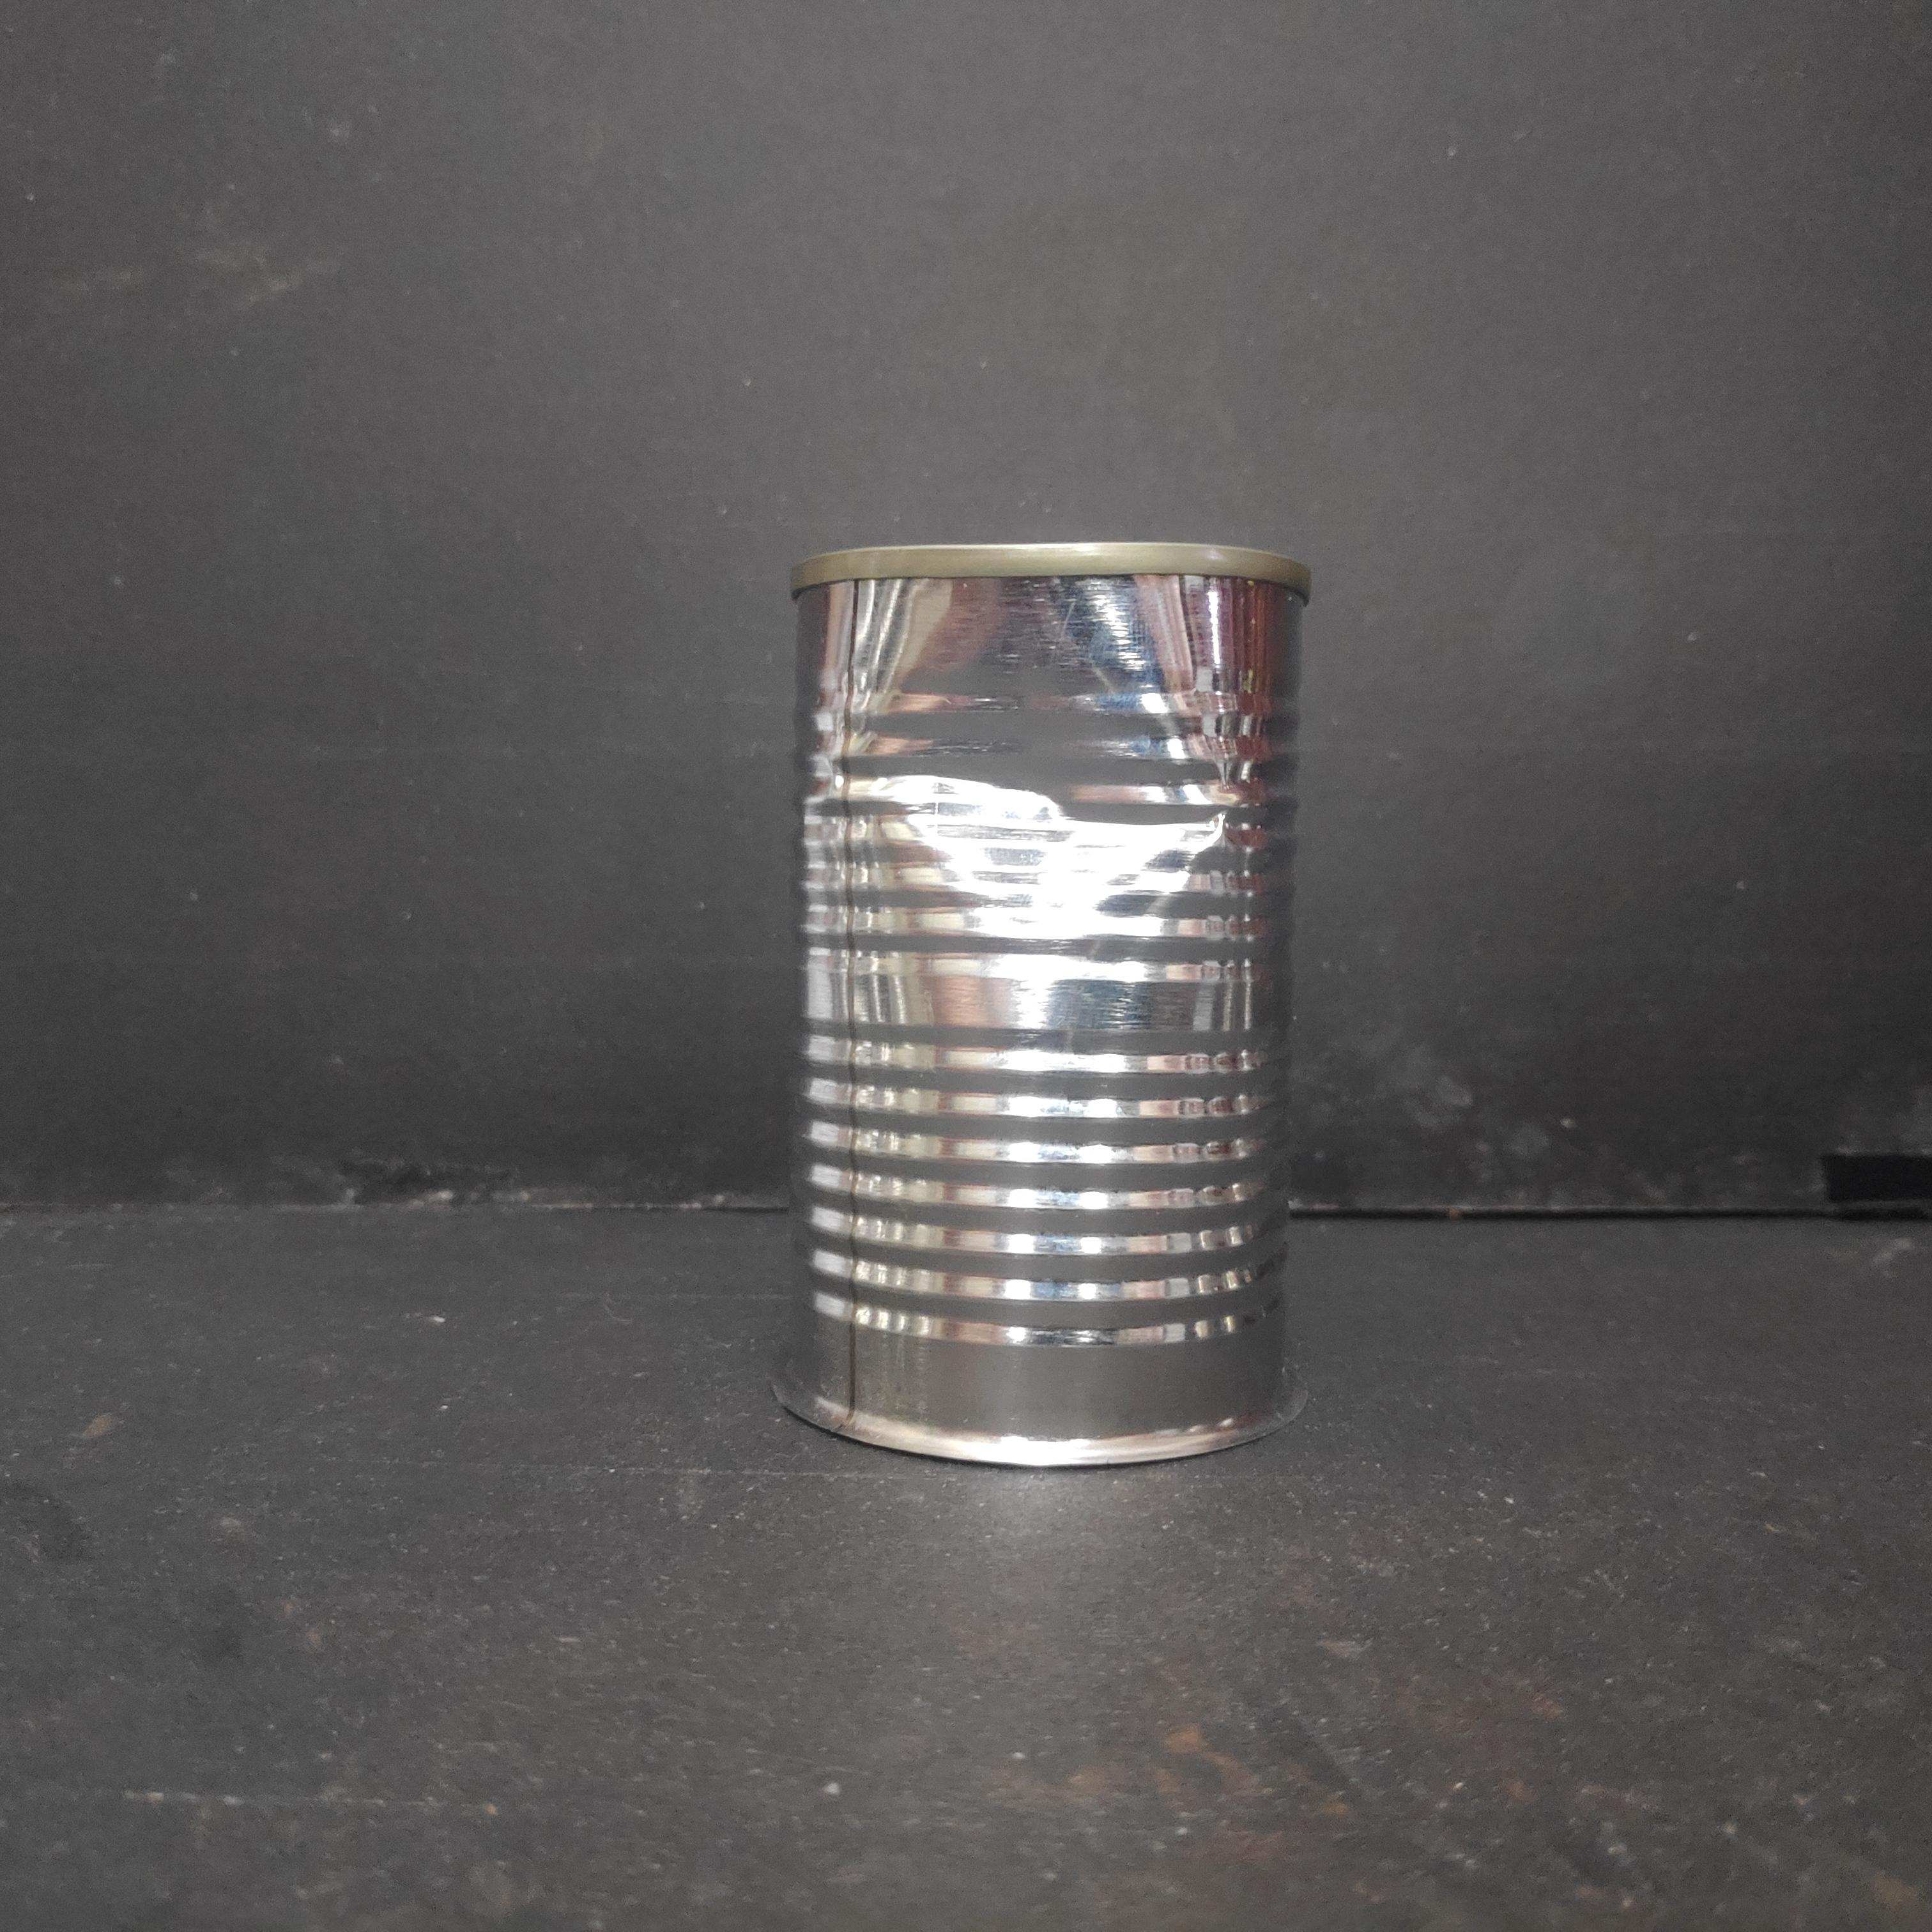Minor Defect: (775, 534, 1327, 1476)
